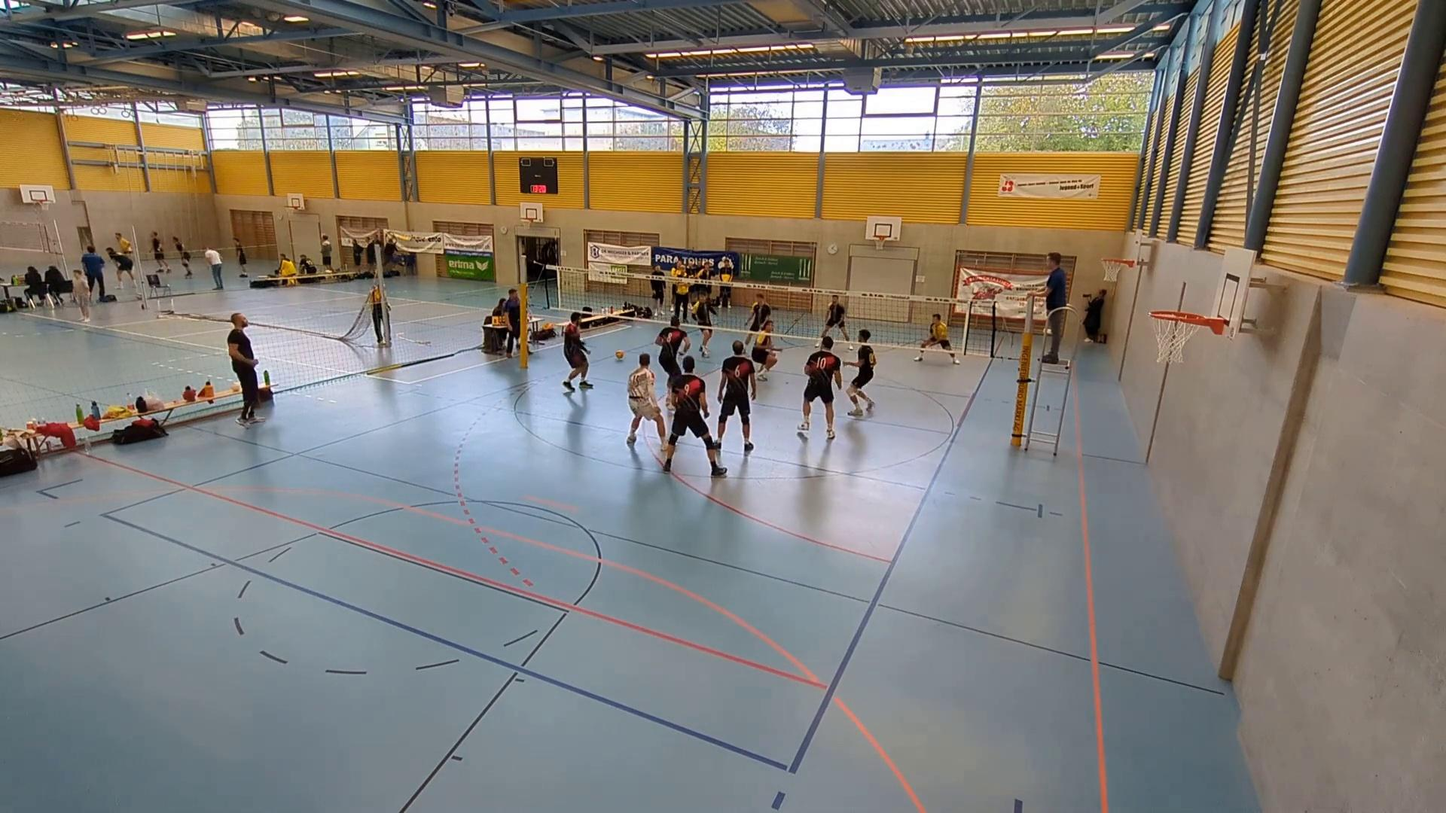Player: (660, 358, 726, 474), (797, 336, 843, 439), (621, 347, 668, 447), (713, 340, 755, 450), (654, 315, 688, 400), (846, 329, 876, 417), (560, 315, 592, 394), (914, 312, 961, 364), (749, 320, 779, 384), (694, 294, 716, 358), (823, 295, 848, 346), (747, 294, 773, 334)
ball: (613, 349, 625, 361)
